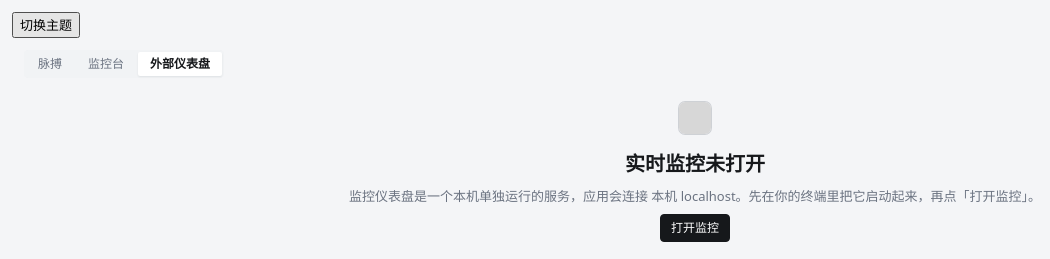
it: MonitorPage › says nothing about the port when the lookup fails
Click the button "打开监控".
click(695, 228)  # box [660,214,730,242]
Wait 2400 ms
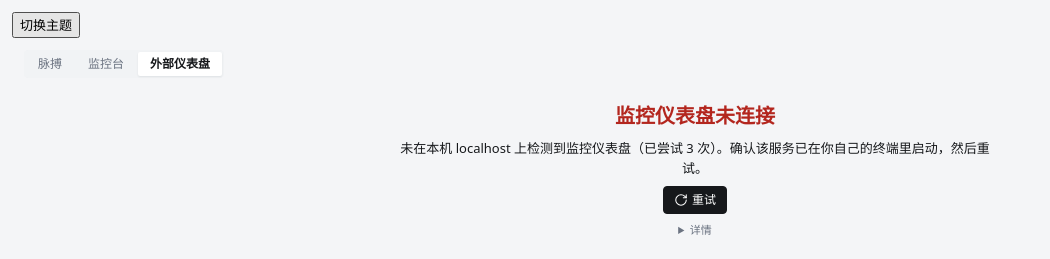
Check: the text "未在本机 localhost 上检测到监控仪表盘（已尝试 3 次）。确认该服务已在你自己的终端里启动，然后重试。" is shown, box [399,138,991,178]
